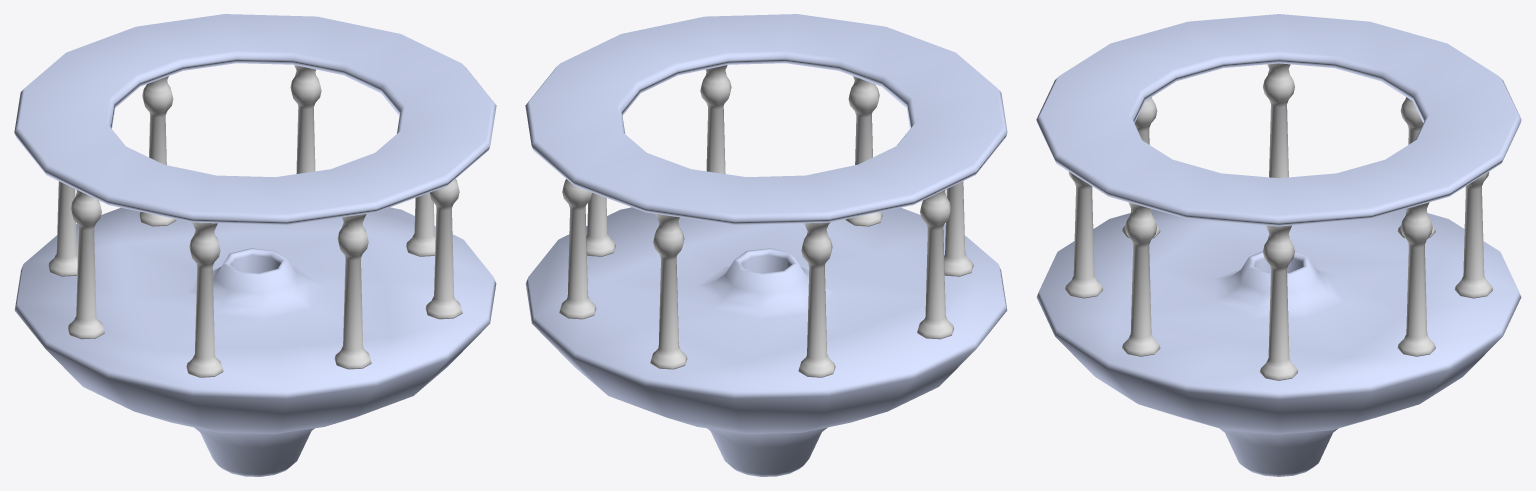
The model's file is LifterBase.fbx.
The picture shows the model from 3 angles, left to right: view 1: azimuth 30°, elevation 25°; view 2: azimuth 150°, elevation 25°; view 3: azimuth 270°, elevation 25°; orthographic projection.
Parts seen in each view (by area): view 1: LifterBase, LifterRoof, Column.007, Column.002, Column.003, Column.006, Column.008, Column.001, Column.005, Column.004; view 2: LifterBase, LifterRoof, Column.005, Column.001, Column.003, Column.008, Column.006, Column.002, Column.007, Column.004; view 3: LifterBase, LifterRoof, Column.004, Column.006, Column.008, Column.001, Column.002, Column.003, Column.005, Column.007.
Boxes of the visible parts, x1,y1,x2,y2 form: LifterBase: [14, 207, 496, 476]; LifterRoof: [14, 14, 496, 225]; Column.007: [186, 222, 223, 377]; Column.002: [334, 214, 371, 369]; Column.003: [68, 189, 104, 339]; Column.006: [425, 179, 462, 319]; Column.008: [290, 65, 321, 173]; Column.001: [139, 76, 176, 226]; Column.005: [48, 181, 77, 276]; Column.004: [406, 193, 435, 256]; LifterBase: [525, 207, 1007, 476]; LifterRoof: [525, 14, 1007, 225]; Column.005: [798, 222, 835, 377]; Column.001: [650, 214, 687, 369]; Column.003: [917, 189, 953, 339]; Column.008: [559, 179, 596, 319]; Column.006: [700, 65, 731, 173]; Column.002: [845, 76, 882, 226]; Column.007: [944, 181, 973, 276]; Column.004: [586, 193, 615, 256]; LifterBase: [1036, 209, 1521, 476]; LifterRoof: [1036, 14, 1521, 226]; Column.004: [1260, 225, 1297, 380]; Column.006: [1122, 202, 1160, 356]; Column.008: [1397, 202, 1435, 356]; Column.001: [1454, 172, 1492, 298]; Column.002: [1065, 172, 1103, 298]; Column.003: [1263, 63, 1294, 178]; Column.005: [1397, 97, 1435, 238]; Column.007: [1122, 97, 1160, 238].
Size of the model in its own units: 1320 by 1043 by 1320.
